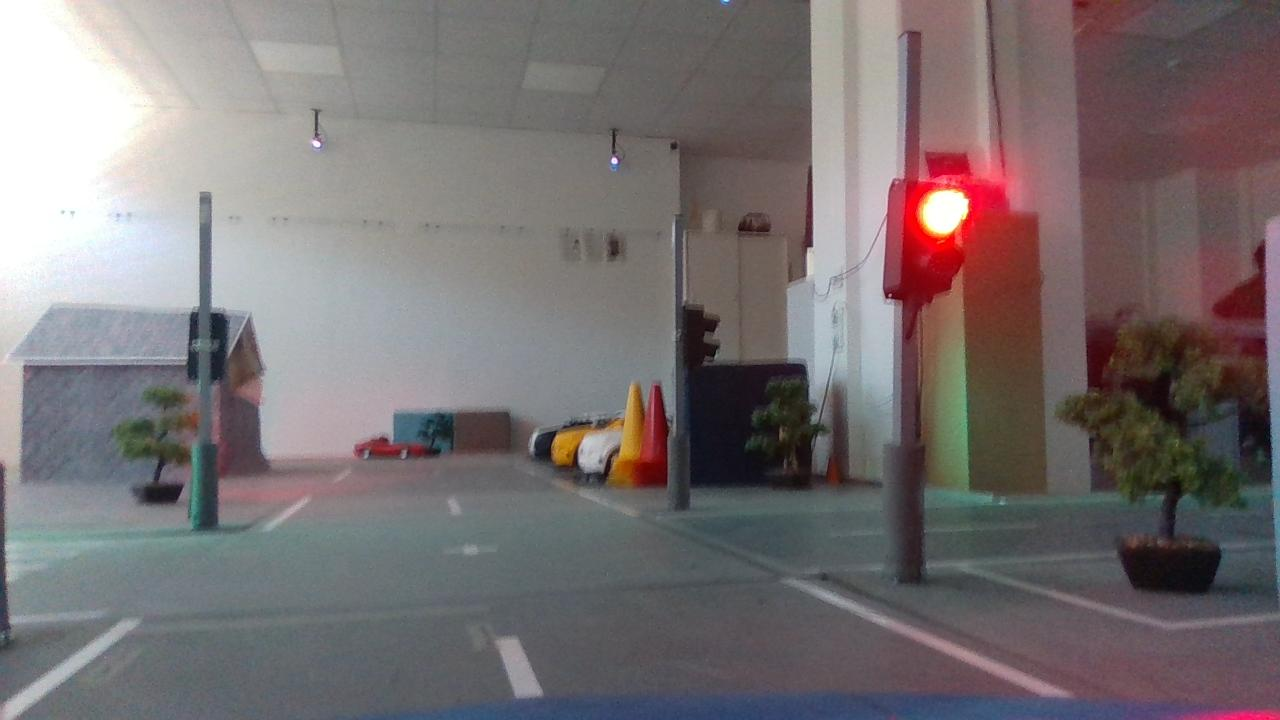traffic_light_red: (859, 157, 986, 320)
